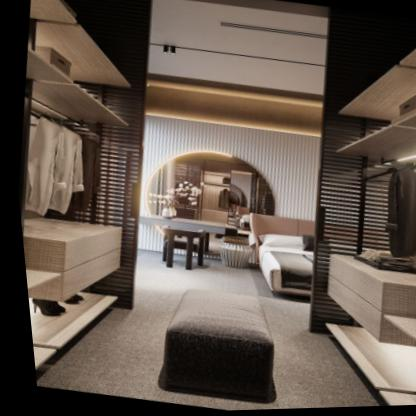Transparent Closet: (15, 0, 138, 376), (305, 44, 416, 408)
